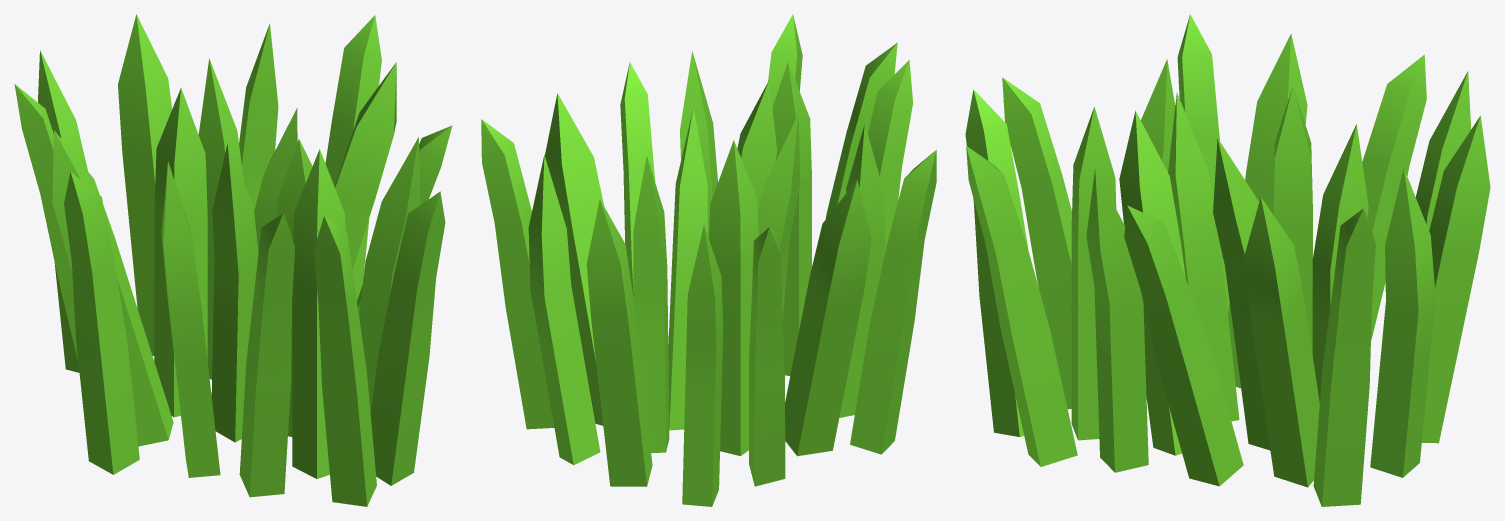
File: grass_05_brush_05.glb
The picture shows the model from 3 angles, left to right: view 1: azimuth 30°, elevation 25°; view 2: azimuth 150°, elevation 25°; view 3: azimuth 270°, elevation 25°; orthographic projection. The views are drawn at different scales.
Visible parts, largest first — view 1: grass_05_brush_05; view 2: grass_05_brush_05; view 3: grass_05_brush_05.
Boxes of the visible parts, x1=… form: grass_05_brush_05: x1=14, y1=14, x2=452, y2=506; grass_05_brush_05: x1=481, y1=14, x2=936, y2=506; grass_05_brush_05: x1=965, y1=14, x2=1490, y2=506.
Bounding box in the file's own units: 0.4606 × 0.3667 × 0.5279.
